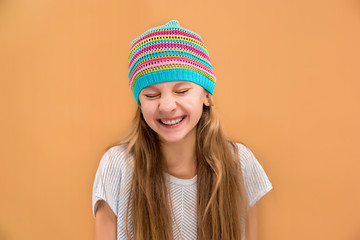teen: (123, 65, 221, 160)
